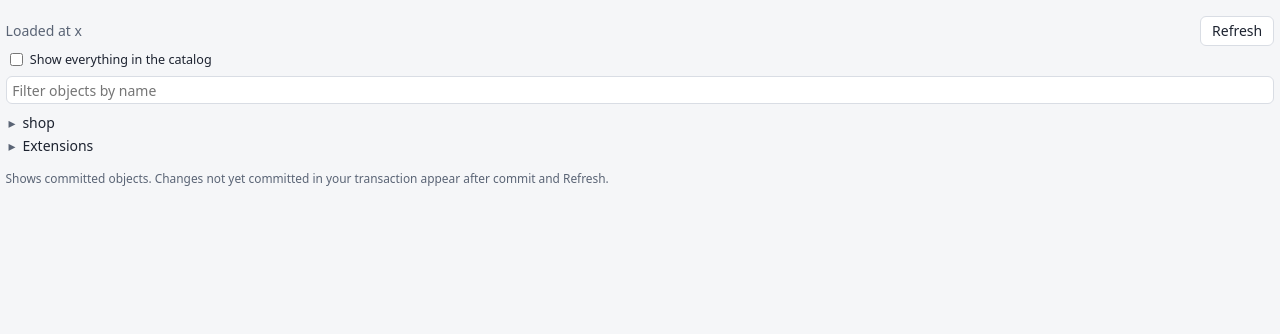
Test: object explorer (admin Phase 3) › says why a definition could not be loaded
Click the button "shop".
click(32, 122)  # box [6,111,58,133]
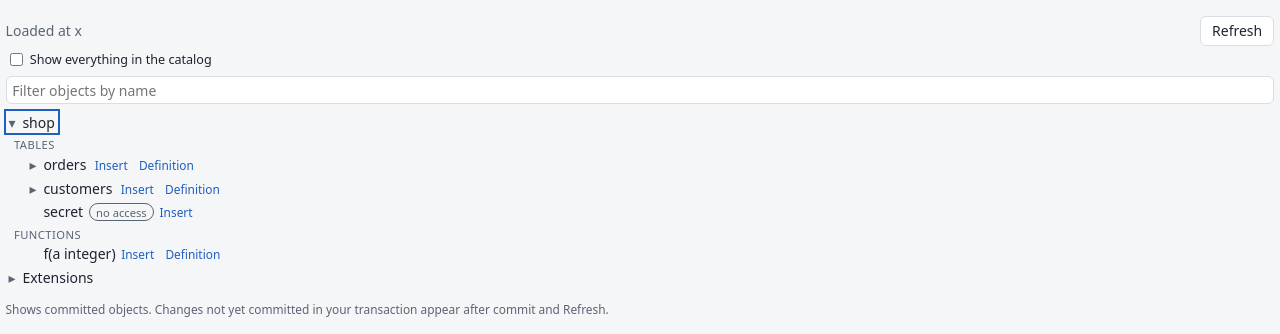
Click the button with aria-label "Open definition of shop.orders".
click(166, 165)  # box [133,154,199,176]
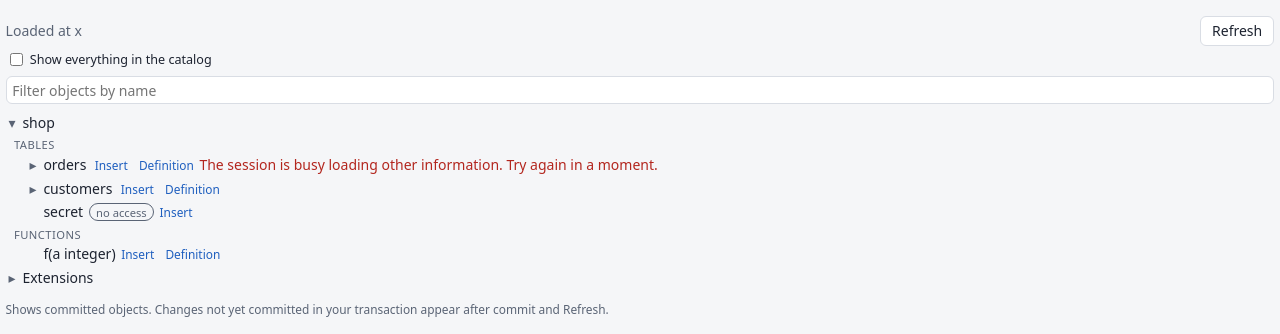
Expected: the message shows "busy loading other information", [199,155,658,174]
